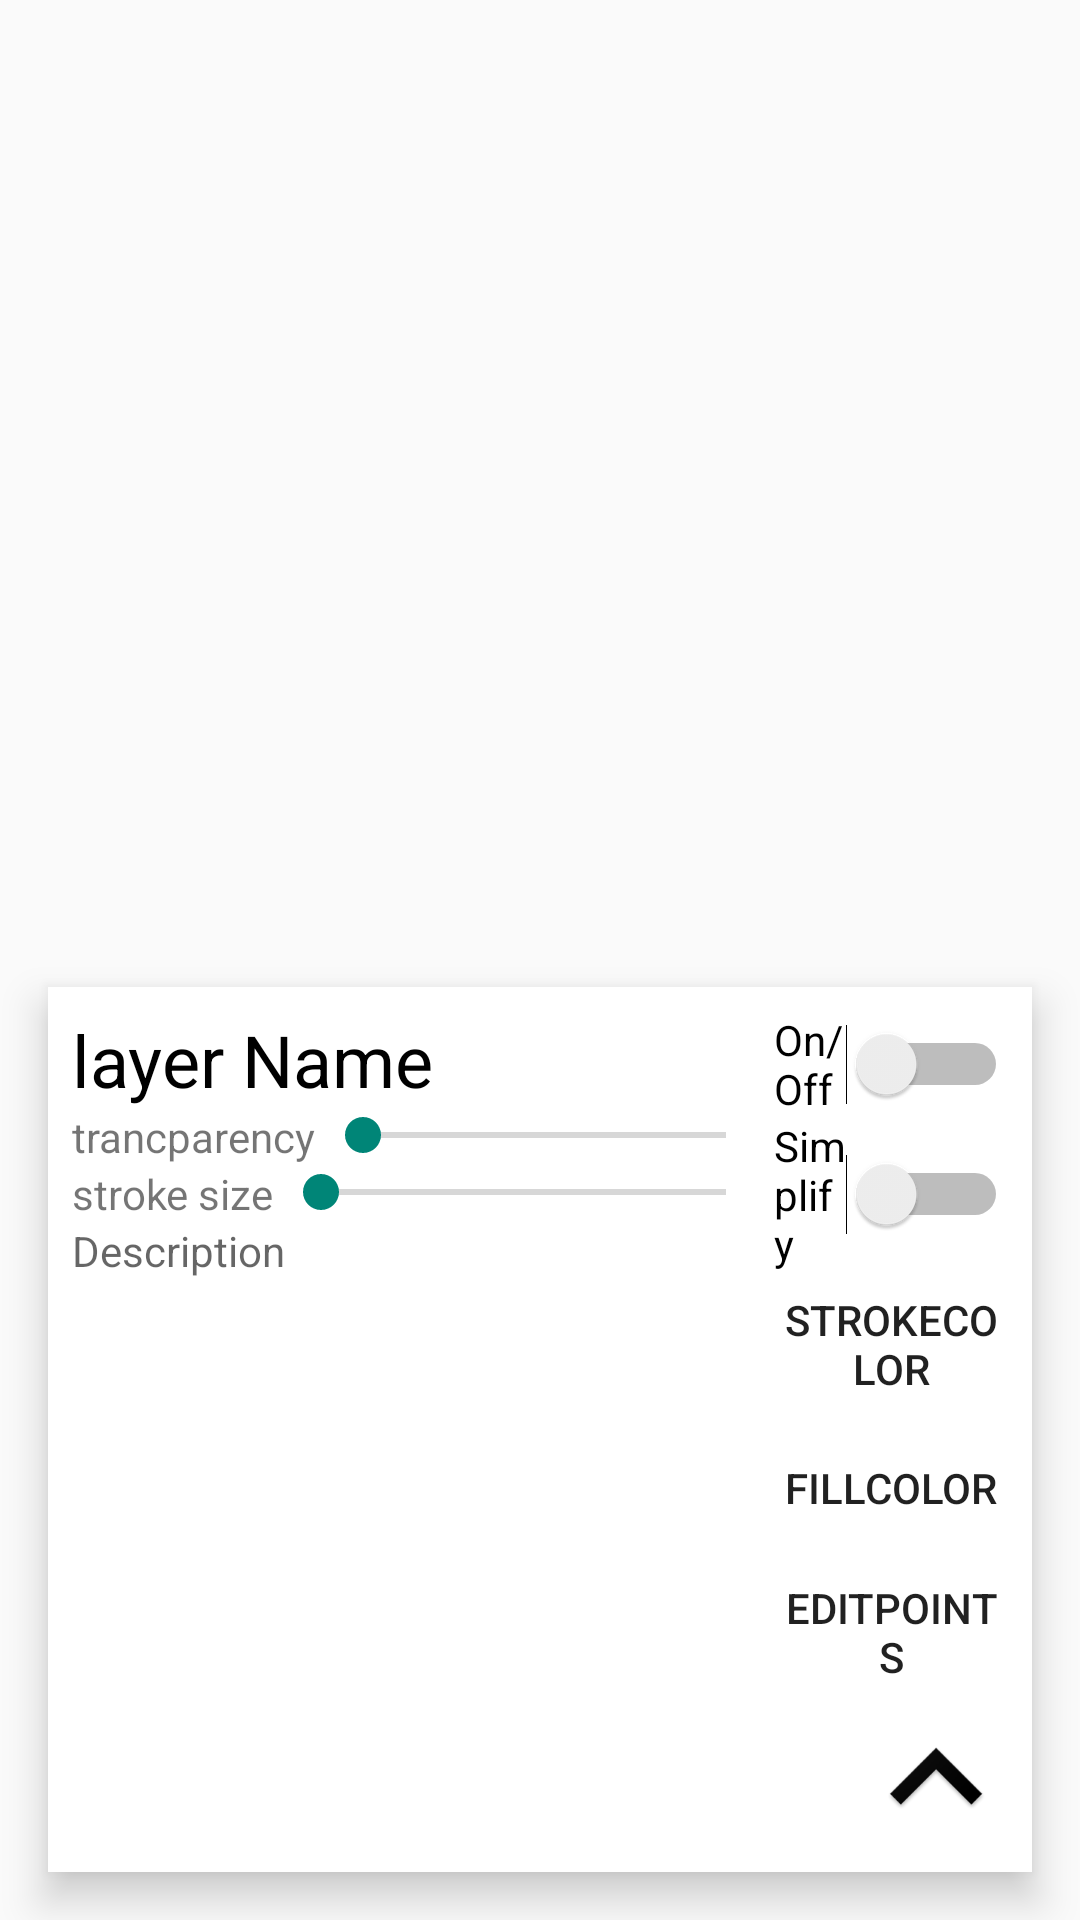

Screen size 1080*1920. Icon name, then its box in pixels as (x1, y1, x2, y2):
show less: (890, 1747, 983, 1806)
